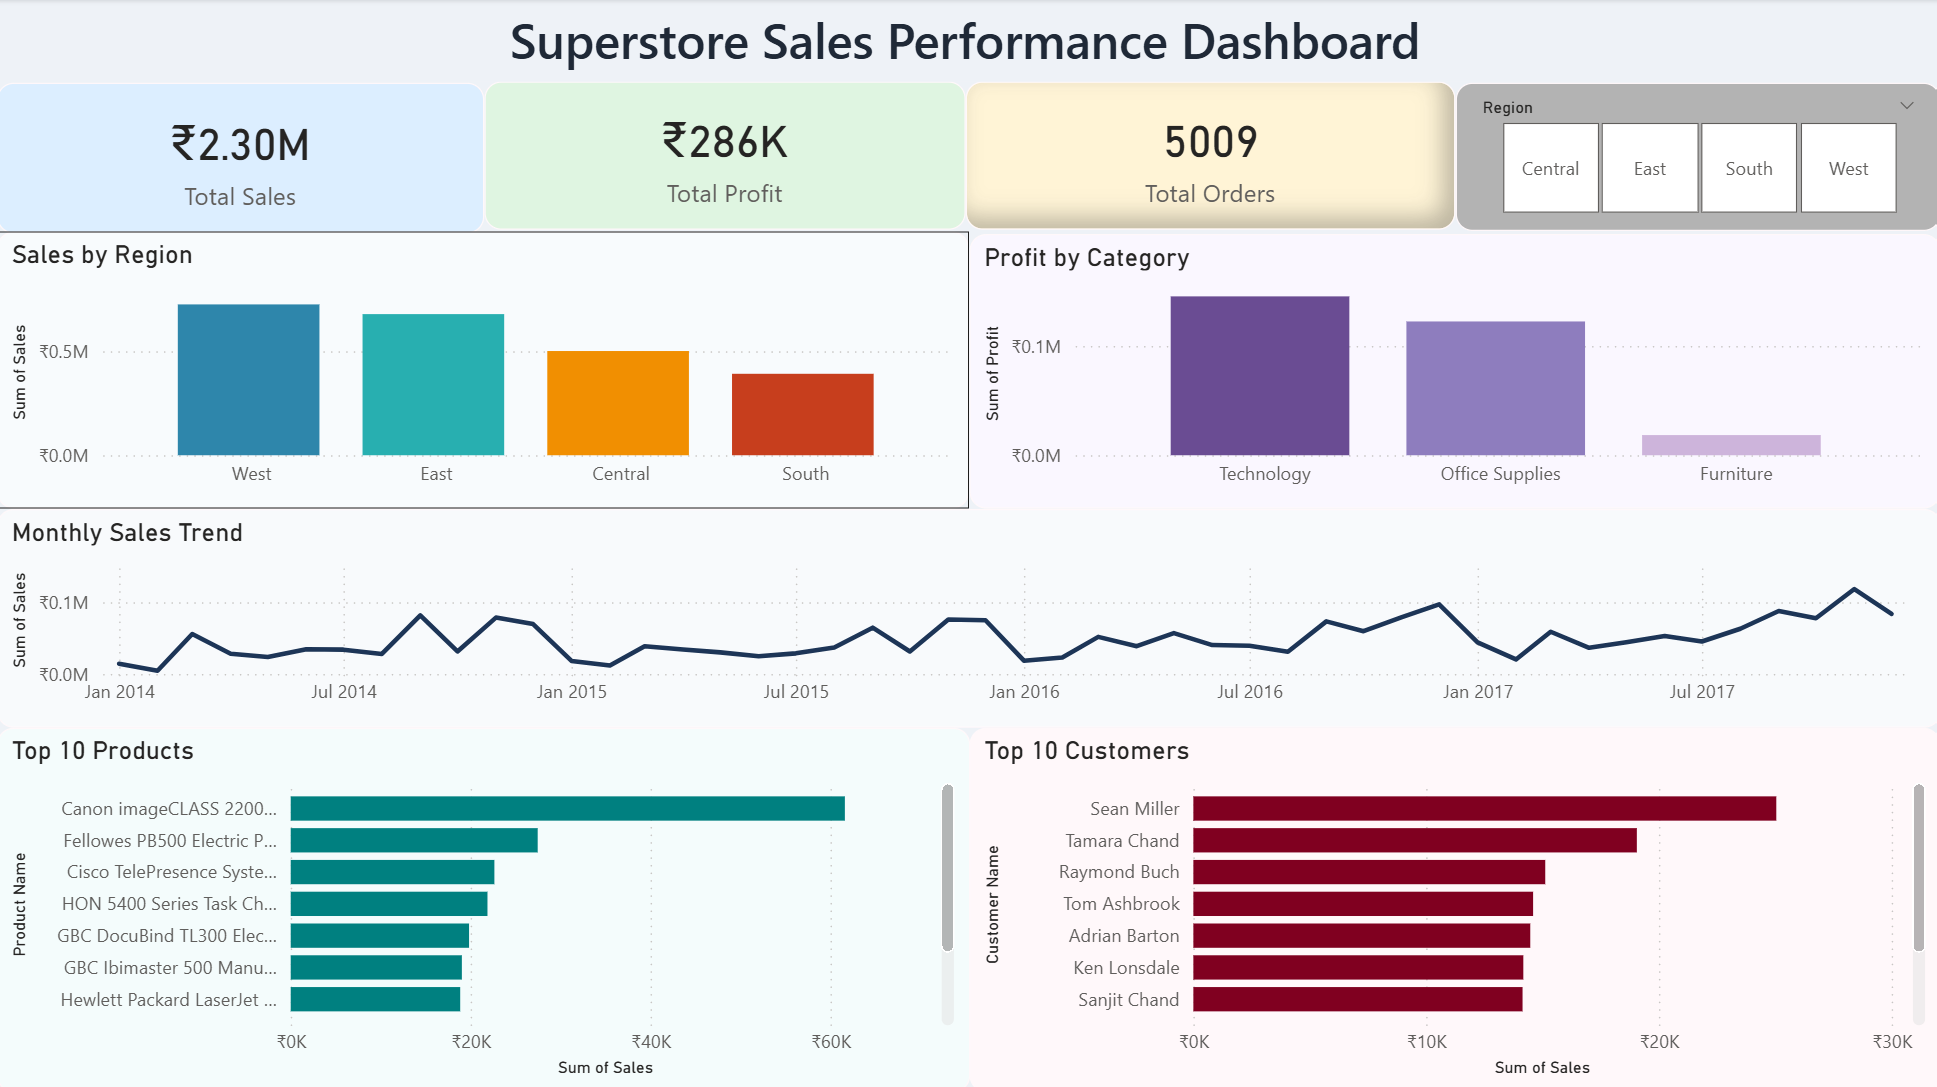

This screenshot's page, from the dashboard's own definition file:
{"tool":"powerbi","page":{"name":"Page 1","canvas":[1280,720],"ordinal":0},"visuals":[{"type":"card","fields":{"Values":["Sum(Sample - Superstore.Sales)"]},"box":[0,55.1,321,99.6],"z":0},{"type":"card","fields":{"Values":["Sum(Sample - Superstore.Profit)"]},"box":[321,54.3,316.9,97.9],"z":1000},{"type":"card","title":"Total Orders","fields":{"Values":["Count(Sample - Superstore.Order ID)"]},"box":[637.9,54.3,322.6,97.9],"z":2000},{"type":"clusteredColumnChart","title":"Sales by Region","fields":{"Category":["Sample - Superstore.Region"],"Y":["Sum(Sample - Superstore.Sales)"]},"box":[0,153.1,640.3,182.7],"z":3000},{"type":"textbox","box":[207.4,0,860.1,54.3],"z":4000},{"type":"clusteredColumnChart","title":"Profit by Category","fields":{"Y":["Sum(Sample - Superstore.Profit)"],"Category":["Sample - Superstore.Category"]},"box":[640.3,154.7,639.5,181.1],"z":5000},{"type":"lineChart","title":"Monthly Sales Trend","fields":{"Y":["Sum(Sample - Superstore.Sales)"],"Category":["Sample - Superstore.Order Date.Variation.Date Hierarchy.Year","Sample - Superstore.Order Date.Variation.Date Hierarchy.Month"]},"box":[0,335.8,1279.8,144],"z":6000},{"type":"barChart","title":"Top 10 Products ","fields":{"Category":["Sample - Superstore.Product Name"],"Y":["Sum(Sample - Superstore.Sales)"]},"box":[0,480.1,640.4,240.1],"z":7000},{"type":"barChart","title":"Top 10 Customers","fields":{"Category":["Sample - Superstore.Customer Name"],"Y":["Sum(Sample - Superstore.Sales)"]},"box":[640.4,480.1,639.6,240.1],"z":8000},{"type":"slicer","fields":{"Values":["Sample - Superstore.Region"]},"box":[960.5,55.1,319.3,97.9],"z":9000}]}

Visuals, with their boxes in screenshot pixels (x1, y1, x2, y2), scaled from the page's 1280x720 canvas onto the 1937x1087 screenshot:
card - Sum(Sample - Superstore.Sales): [left=0, top=83, right=486, bottom=234]
card - Sum(Sample - Superstore.Profit): [left=486, top=82, right=965, bottom=230]
"Total Orders" card: [left=965, top=82, right=1454, bottom=230]
"Sales by Region" clusteredColumnChart: [left=0, top=231, right=969, bottom=507]
textbox: [left=314, top=0, right=1615, bottom=82]
"Profit by Category" clusteredColumnChart: [left=969, top=234, right=1936, bottom=507]
"Monthly Sales Trend" lineChart: [left=0, top=507, right=1936, bottom=724]
"Top 10 Products " barChart: [left=0, top=725, right=969, bottom=1086]
"Top 10 Customers" barChart: [left=969, top=725, right=1936, bottom=1086]
slicer - Sample - Superstore.Region: [left=1454, top=83, right=1936, bottom=231]
